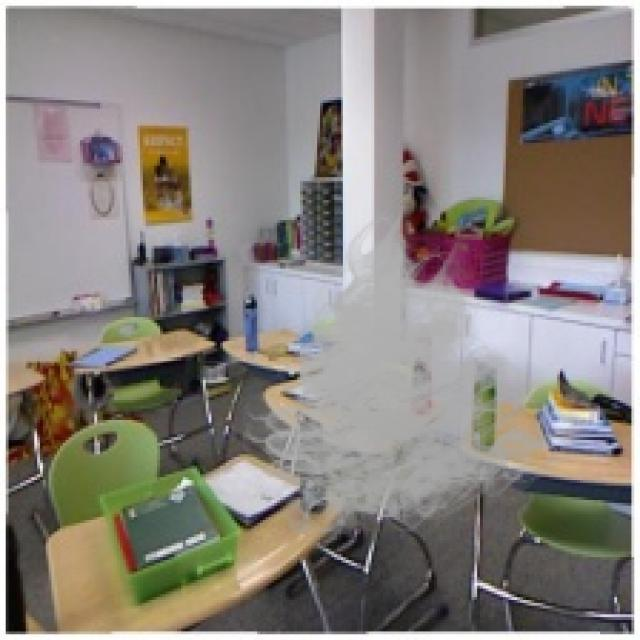smoke: (232, 206, 588, 557)
